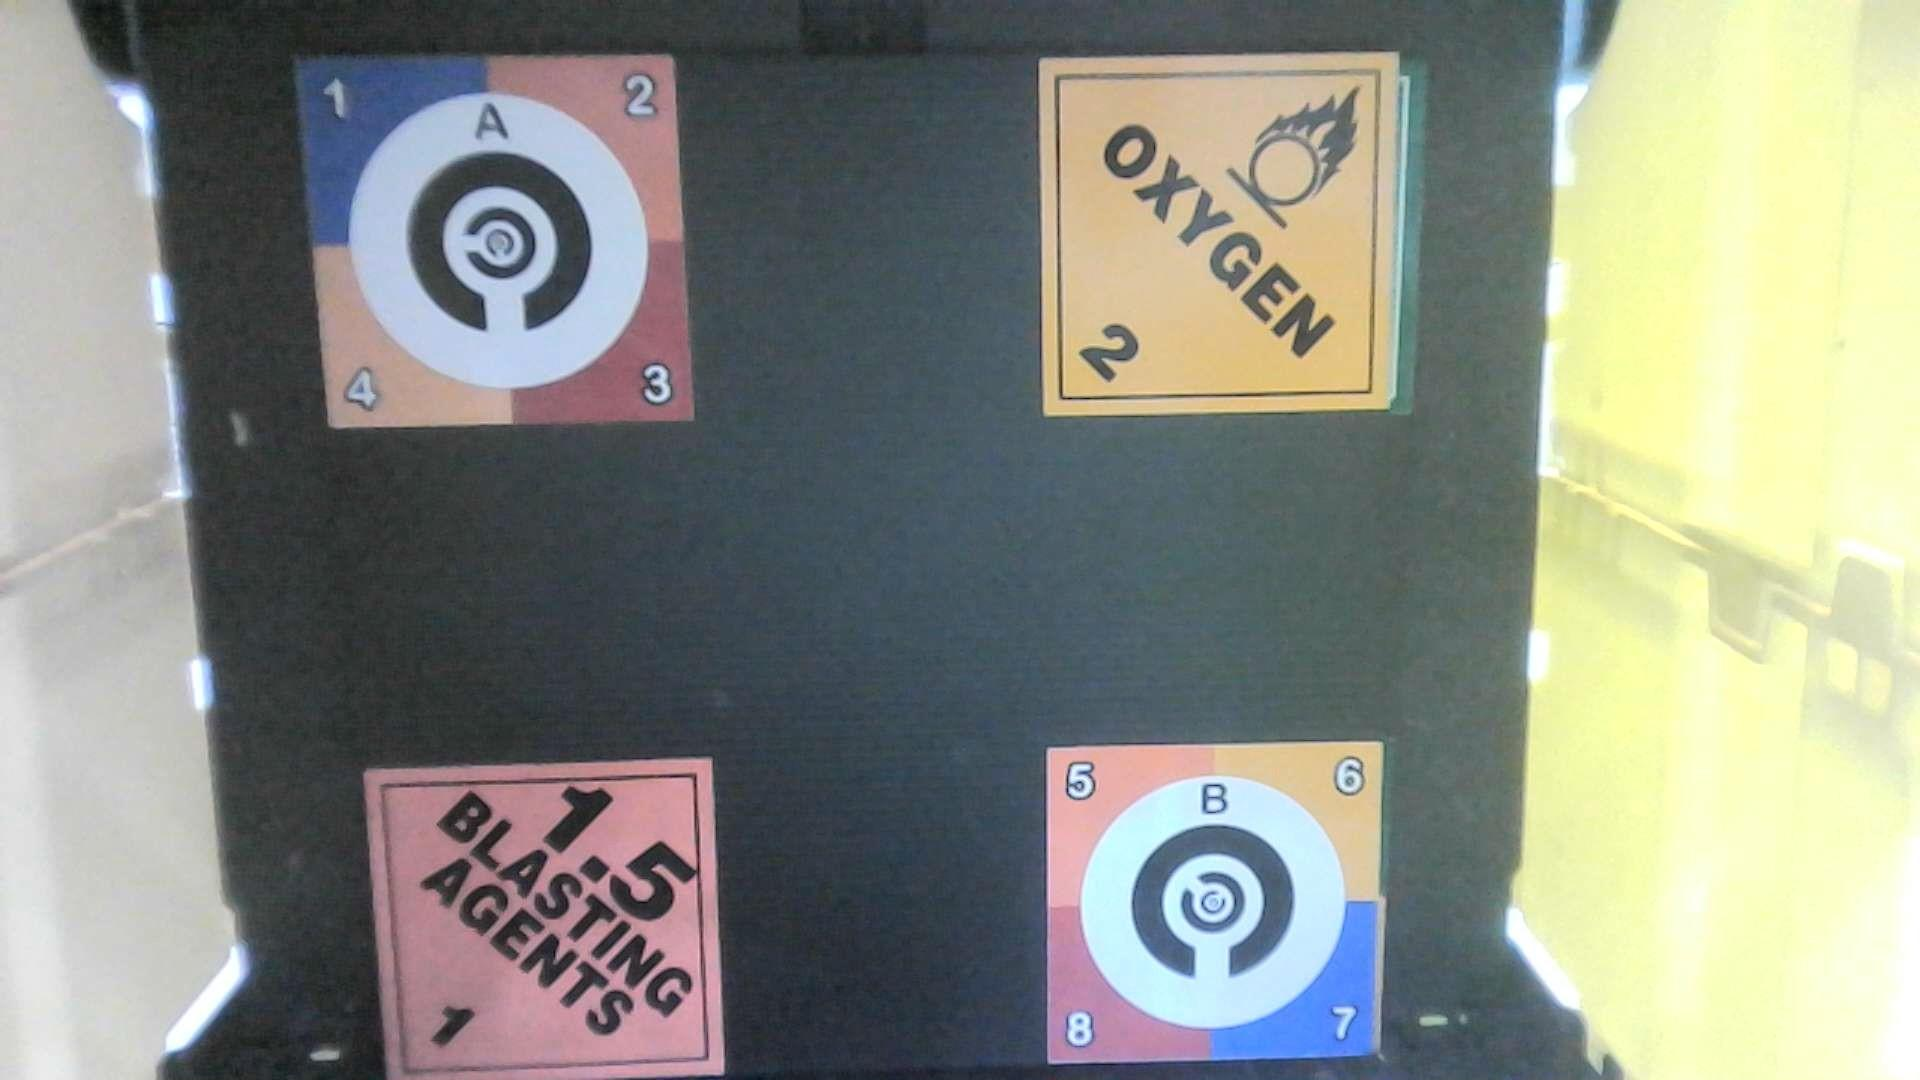explosive: (359, 754, 740, 1080)
oxidizer: (1025, 26, 1425, 431)
